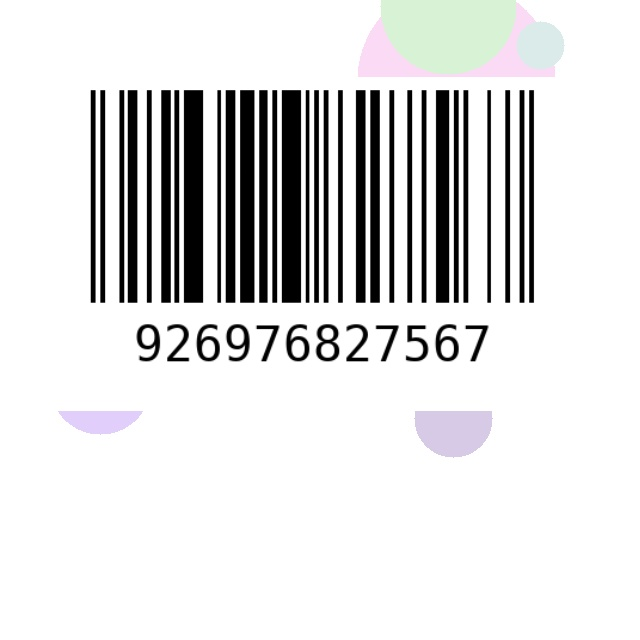barcode: (0, 77, 625, 411)
